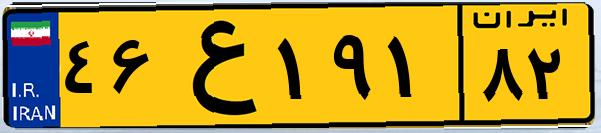1: (270, 28, 330, 110), (385, 28, 445, 110)
2: (525, 38, 570, 115)
4: (57, 26, 110, 100)
6: (110, 28, 158, 98)
8: (475, 38, 525, 113)
9: (330, 28, 385, 110)
ع: (158, 12, 270, 120)
